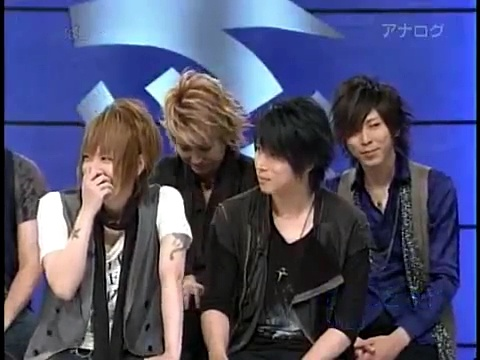face: (81, 138, 130, 198), (344, 106, 392, 165), (254, 137, 294, 193), (175, 130, 222, 174)
